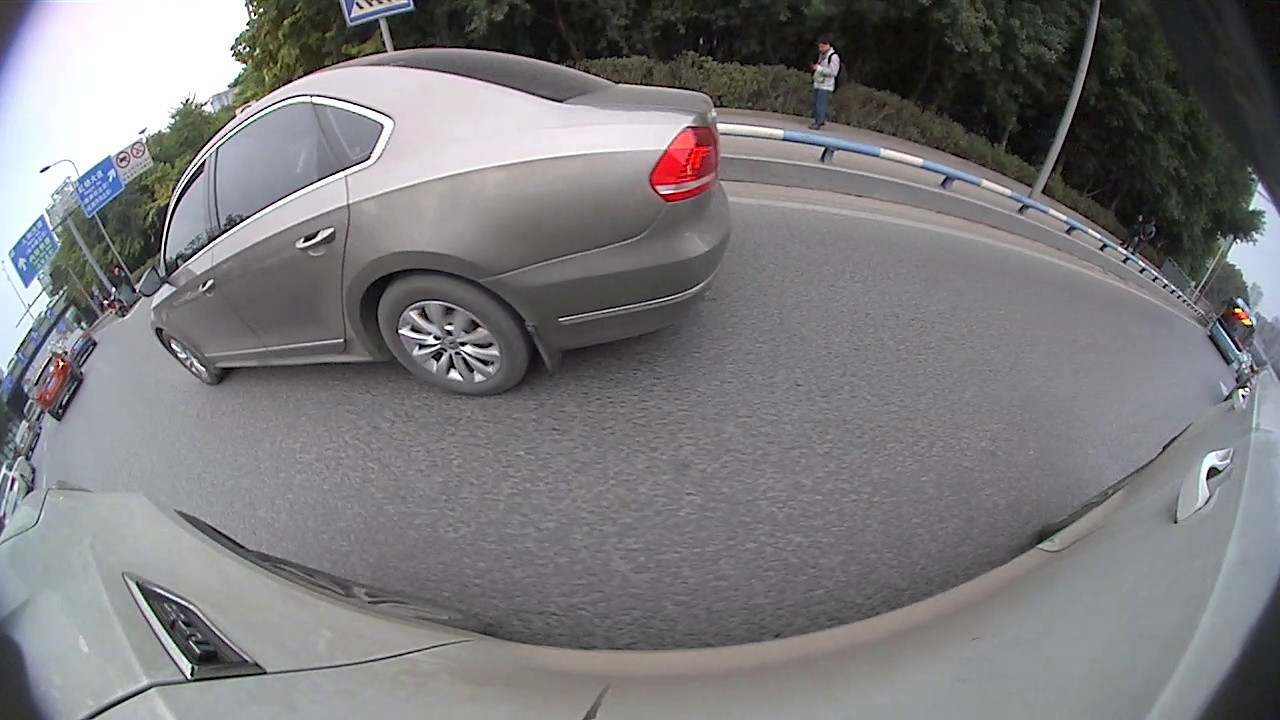bus: (1209, 295, 1259, 366)
car: (135, 46, 733, 398), (31, 350, 87, 423), (1, 457, 37, 527), (1226, 360, 1279, 400), (60, 328, 98, 362), (13, 418, 43, 452), (20, 398, 43, 423)
front: (158, 327, 222, 388)
person: (818, 38, 838, 129), (1142, 215, 1154, 256), (1131, 214, 1139, 253)
rear: (375, 272, 539, 398)
